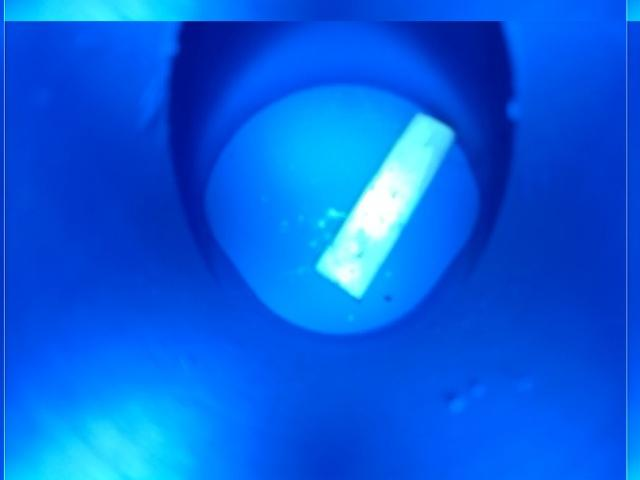megot: (308, 107, 466, 305)
